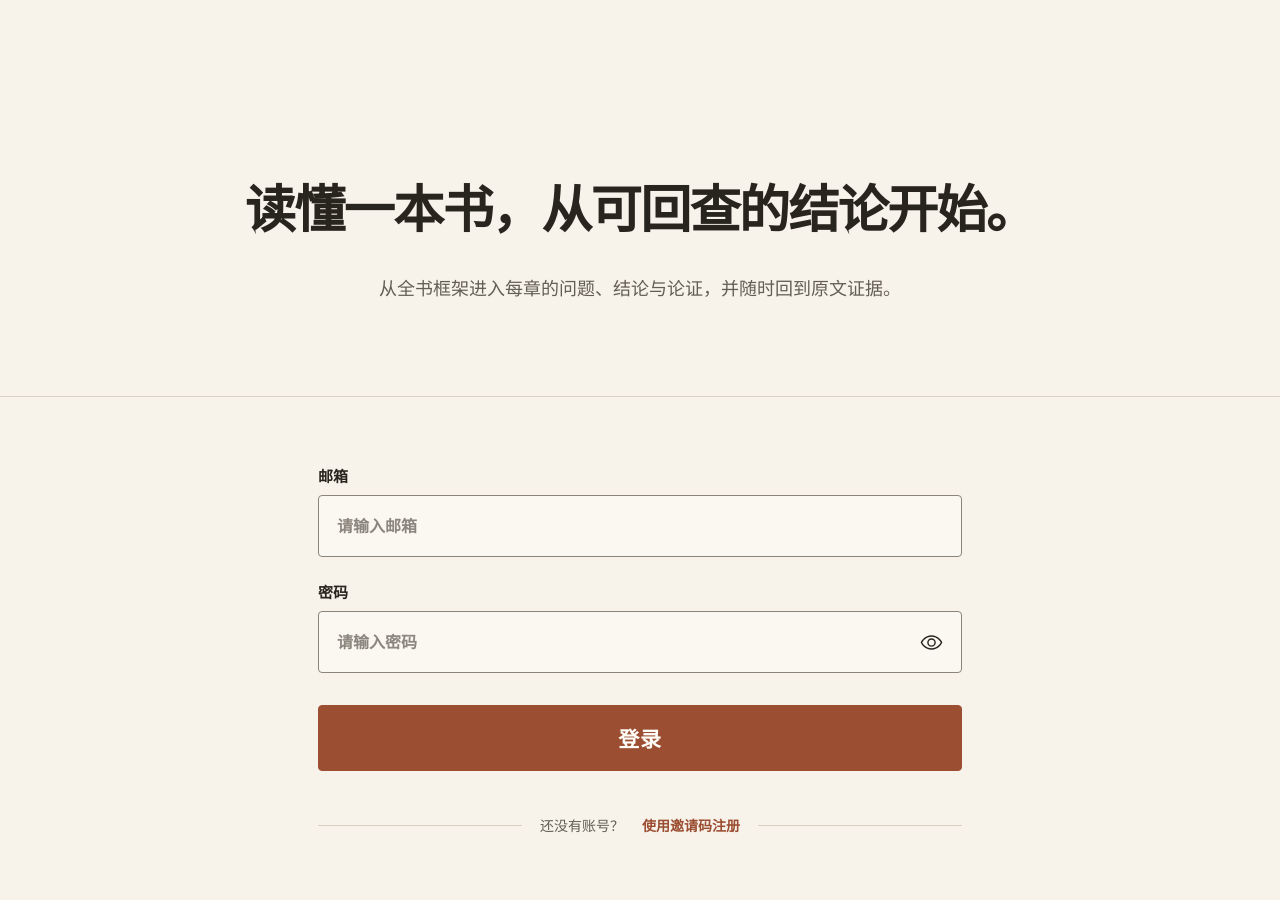
Test case: AccountExperience › switches between login and invitation registration without leaving the auth page
Click the button "使用邀请码注册": [691, 825] box left=642, top=805, right=740, bottom=845
(page scrolled)
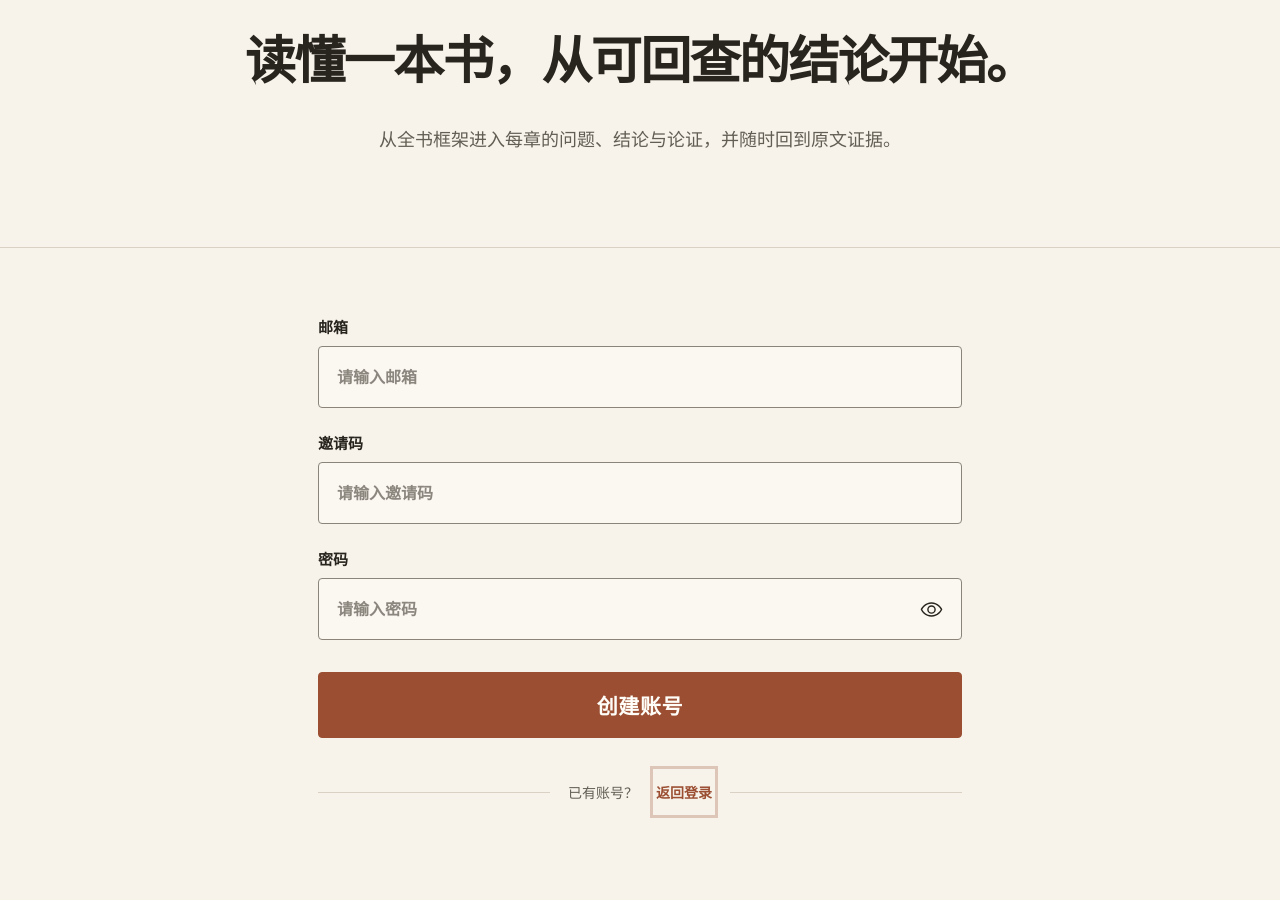
Now the form named "注册 BookThinking" is shown, box left=318, top=316, right=962, bottom=812
Now the field labelled "邀请码" is shown, box left=318, top=462, right=962, bottom=524
Now the button "创建账号" is shown, box left=318, top=672, right=962, bottom=738
